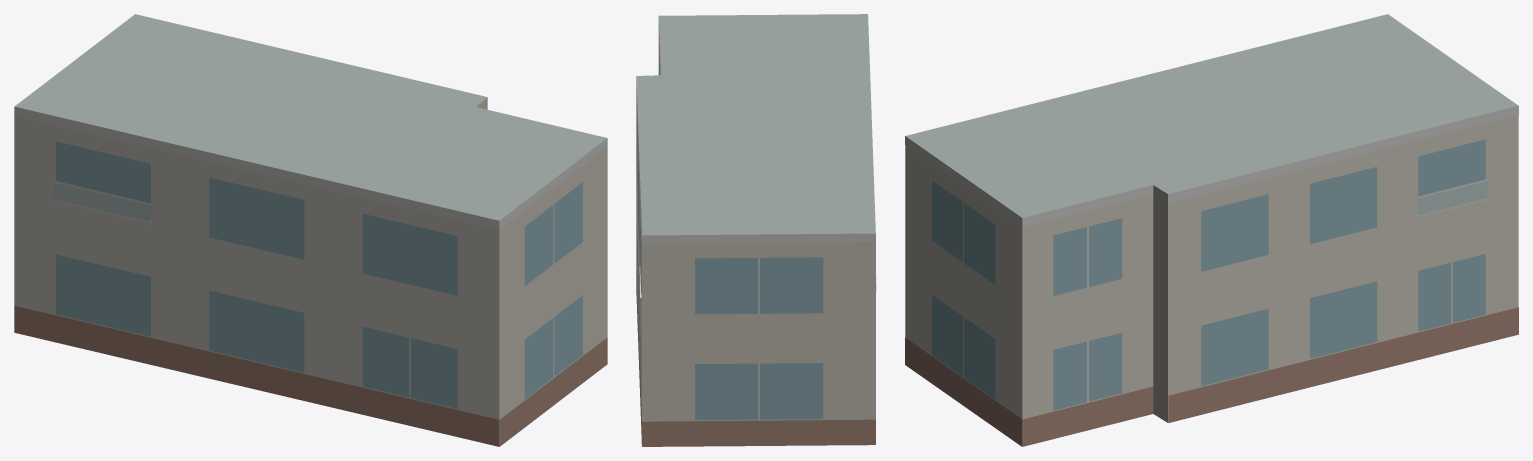
Rendered from survey-upis-32940616.glb.
The picture shows the model from 3 angles, left to right: view 1: azimuth 30°, elevation 25°; view 2: azimuth 150°, elevation 25°; view 3: azimuth 270°, elevation 25°; orthographic projection. The views are drawn at different scales.
Parts seen in each view (by area): view 1: survey-upis-32940616.tmp; view 2: survey-upis-32940616.tmp; view 3: survey-upis-32940616.tmp.
Part boxes in pixels (x1,y1,x2,y2): survey-upis-32940616.tmp: (14, 14, 607, 446); survey-upis-32940616.tmp: (636, 14, 876, 446); survey-upis-32940616.tmp: (905, 14, 1518, 446).
Size of the model in its own units: 11.66 by 6.1 by 14.82.
